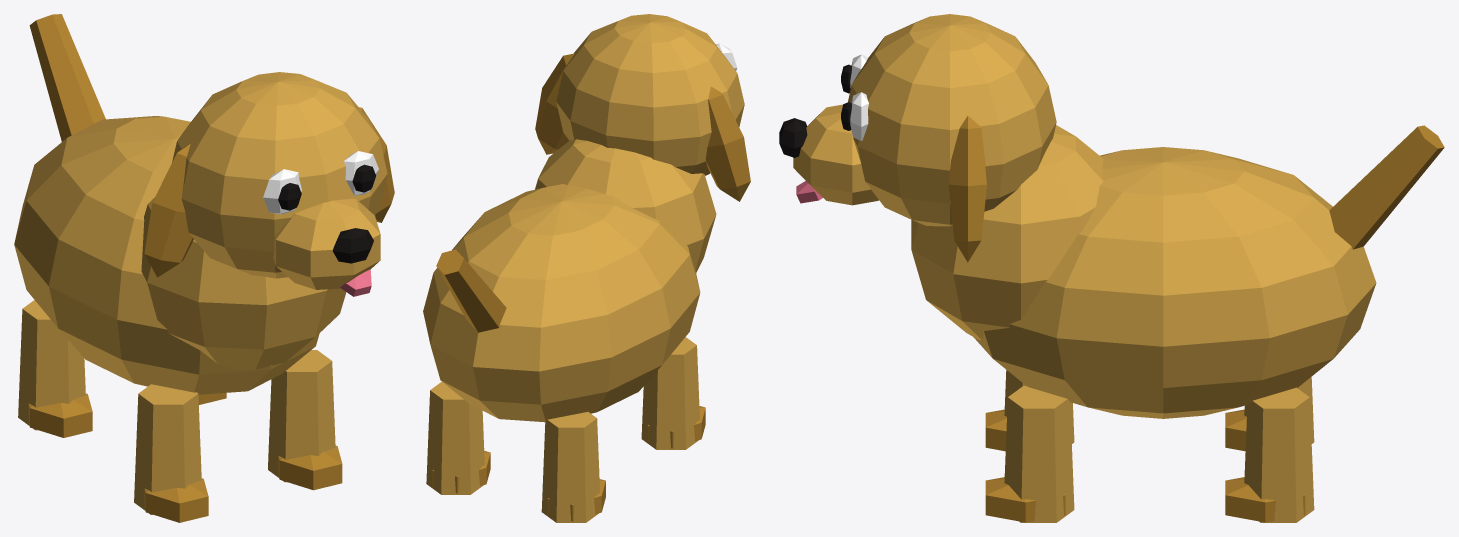
Rendered from dog_3.glb.
3 renders of one model, left to right at view 1: azimuth 30°, elevation 25°; view 2: azimuth 150°, elevation 25°; view 3: azimuth 270°, elevation 25°, orthographic. The views are drawn at different scales.
Visible parts, largest first — view 1: body, head, legs, tail, ears, head_dog_black, head_dog_eye, head_dog_tongue; view 2: body, head, legs, ears, tail; view 3: body, head, legs, tail, ears, head_dog_black, head_dog_eye.
Part boxes in pixels (x1=…): body: x1=14, y1=116, x2=346, y2=394; head: x1=172, y1=72, x2=387, y2=289; legs: x1=18, y1=300, x2=342, y2=522; tail: x1=29, y1=14, x2=105, y2=141; ears: x1=144, y1=107, x2=394, y2=277; head_dog_black: x1=278, y1=164, x2=375, y2=263; head_dog_eye: x1=263, y1=151, x2=378, y2=214; head_dog_tongue: x1=340, y1=270, x2=371, y2=296; body: x1=423, y1=139, x2=716, y2=422; head: x1=556, y1=14, x2=744, y2=175; legs: x1=426, y1=337, x2=705, y2=522; ears: x1=535, y1=53, x2=750, y2=201; tail: x1=436, y1=249, x2=506, y2=332; body: x1=911, y1=125, x2=1376, y2=418; head: x1=793, y1=14, x2=1056, y2=226; legs: x1=985, y1=370, x2=1314, y2=522; tail: x1=1329, y1=125, x2=1444, y2=249; ears: x1=948, y1=116, x2=986, y2=262; head_dog_black: x1=779, y1=64, x2=851, y2=157; head_dog_eye: x1=850, y1=54, x2=868, y2=140.
Size of the model in its own units: 0.34 by 0.57 by 0.7492.
